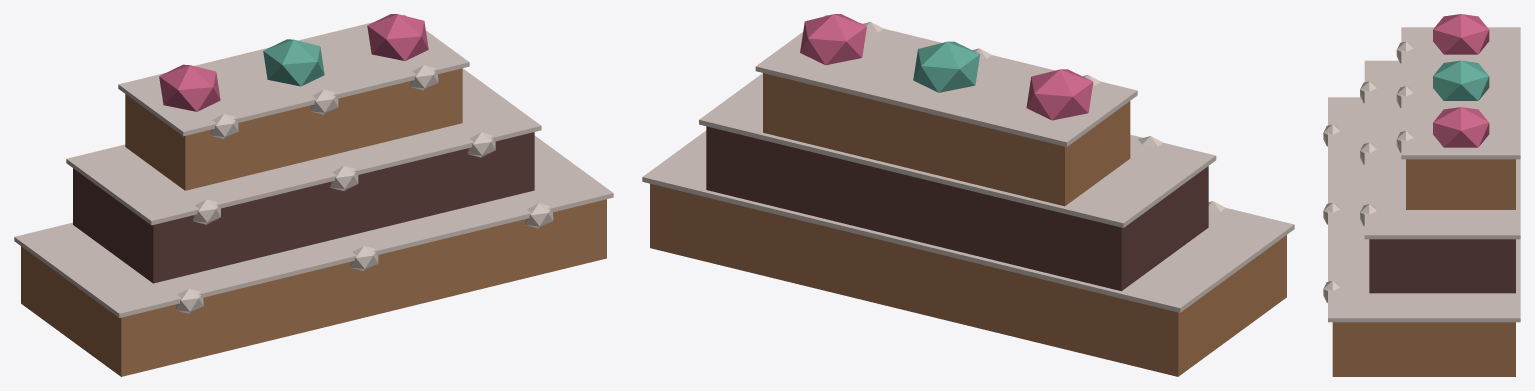
The model's file is Candyland_CandyCliffBackdrop_Standard.glb.
3 views of the same model, side by side, from view 1: azimuth 30°, elevation 25°; view 2: azimuth 150°, elevation 25°; view 3: azimuth 270°, elevation 25° (orthographic). The views are drawn at different scales.
Parts seen in each view (by area): view 1: Candyland_CandyCliffBackdrop_Standard; view 2: Candyland_CandyCliffBackdrop_Standard; view 3: Candyland_CandyCliffBackdrop_Standard.
Part boxes in pixels (box(x1,y1,x2,y2)): Candyland_CandyCliffBackdrop_Standard: box(14, 14, 613, 376); Candyland_CandyCliffBackdrop_Standard: box(642, 14, 1294, 376); Candyland_CandyCliffBackdrop_Standard: box(1323, 14, 1520, 376).
Size of the model in its own units: 14.25 by 6.25 by 5.38.
